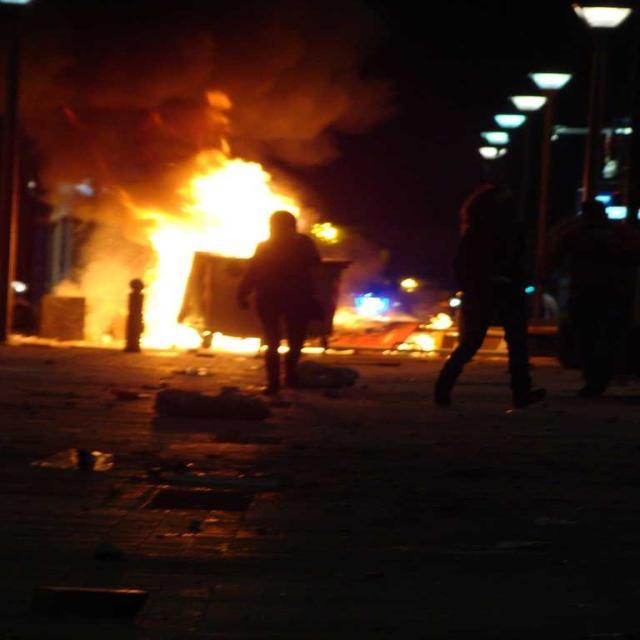Fire: (158, 158, 296, 255), (140, 253, 196, 350)
